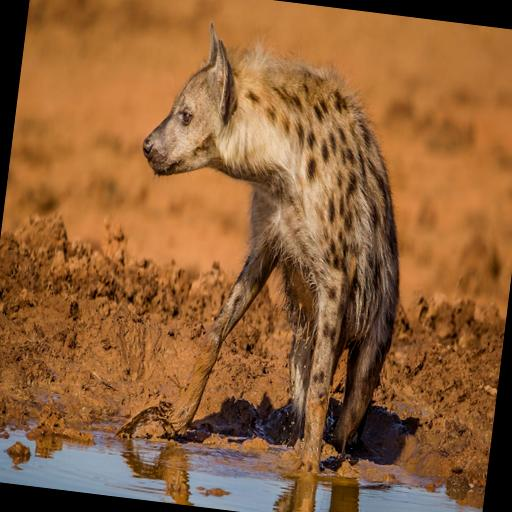hyenas: (83, 20, 446, 482)
